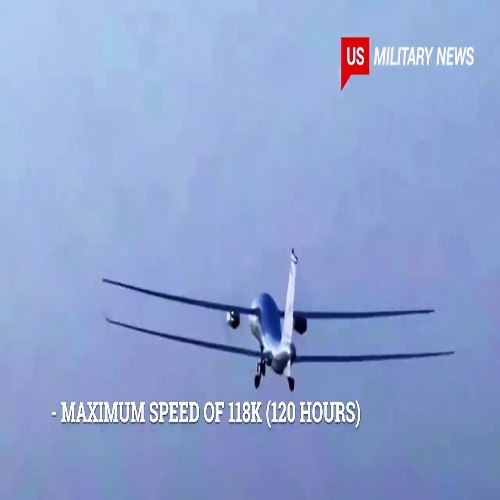uav: (103, 249, 458, 394)
